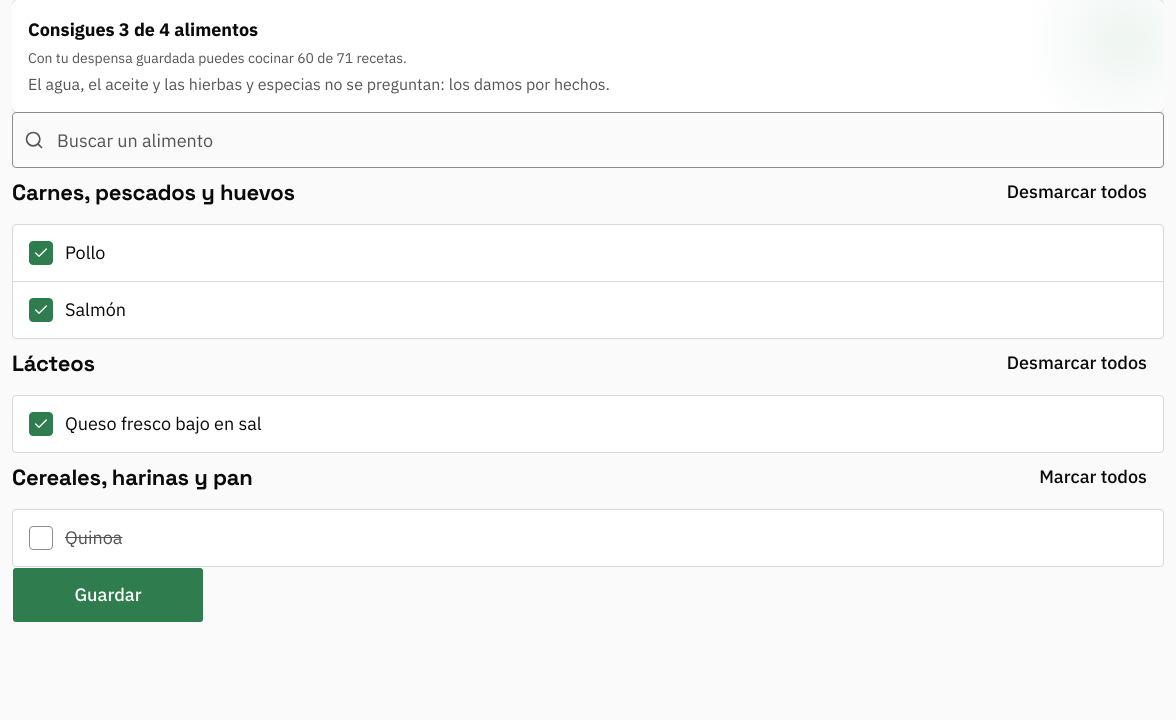
Test: mi despensa › marcar o desmarcar todos los de una categoría
Expected: the text "Consigues 3 de 4 alimentos" is shown, x1=28 y1=18 x2=258 y2=41
Click the button with aria-label "Marcar todos: Cereales, harinas y pan": (1093, 477) x1=1022 y1=453 x2=1164 y2=501
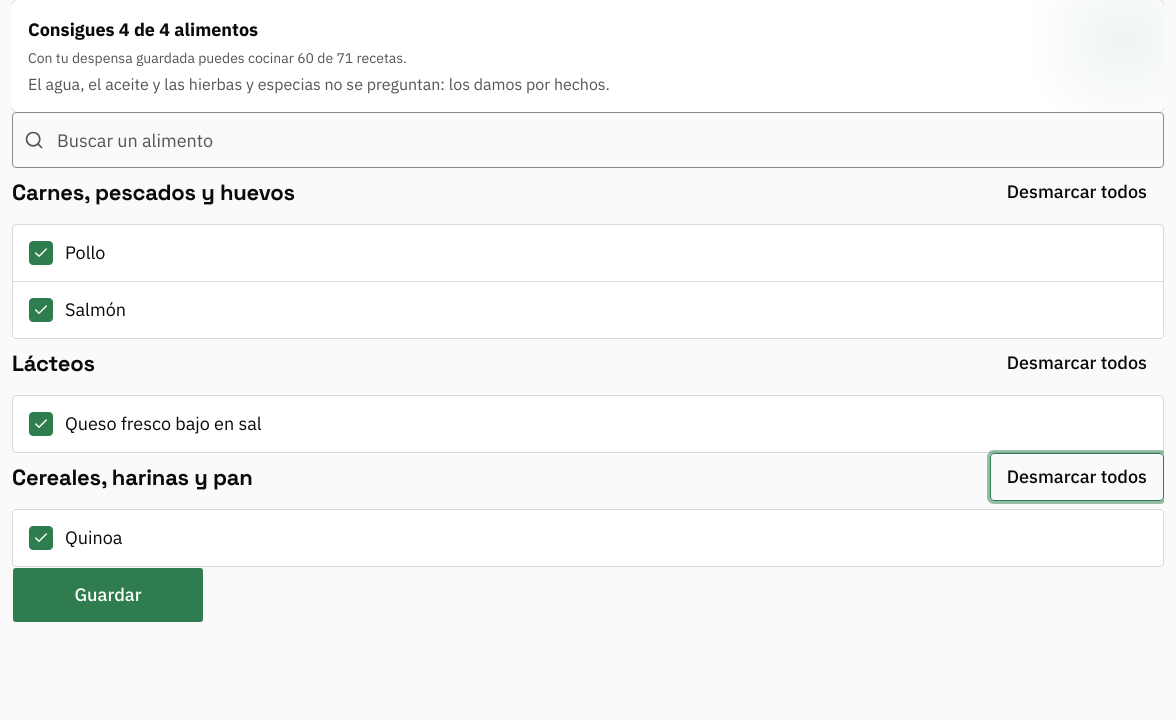
Expected: the text "Consigues 4 de 4 alimentos" is shown, x1=28 y1=18 x2=258 y2=41
Click the button with aria-label "Desmarcar todos: Cereales, harinas y pan": (1077, 477) x1=990 y1=453 x2=1164 y2=501
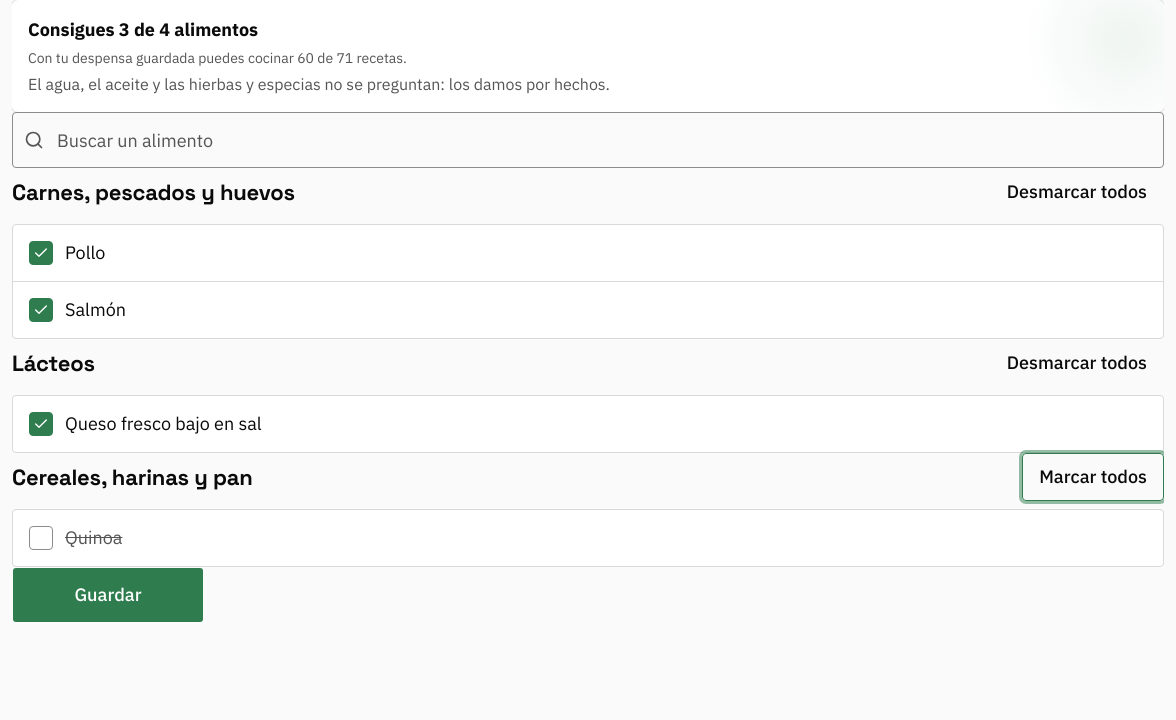
Expected: the text "Consigues 3 de 4 alimentos" is shown, x1=28 y1=18 x2=258 y2=41
